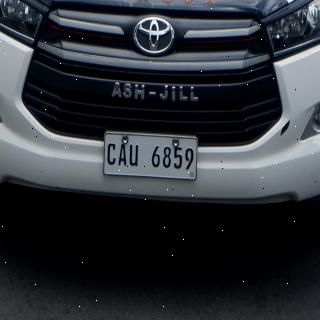license: (105, 133, 199, 181)
